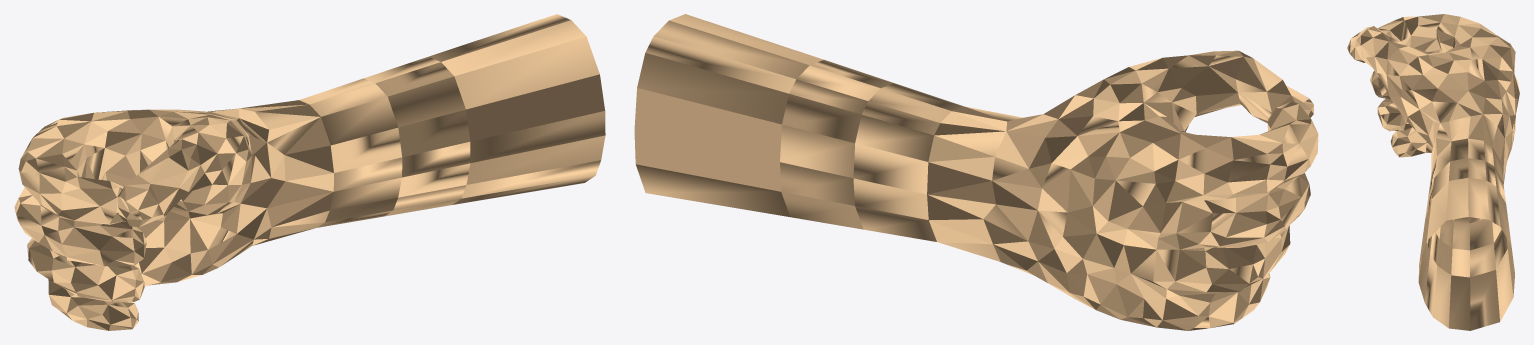
The model's file is SR_Hand.fbx.
3 renders of one model, left to right at view 1: azimuth 30°, elevation 25°; view 2: azimuth 150°, elevation 25°; view 3: azimuth 270°, elevation 25°, orthographic. The views are drawn at different scales.
Parts seen in each view (by area): view 1: SR_Hand; view 2: SR_Hand; view 3: SR_Hand.
Boxes of the visible parts, left/top/right/bottom form: SR_Hand: left=14, top=14, right=605, bottom=330; SR_Hand: left=634, top=14, right=1318, bottom=330; SR_Hand: left=1347, top=14, right=1519, bottom=330.
Bounding box in the file's own units: 197 × 64.96 × 71.73.
